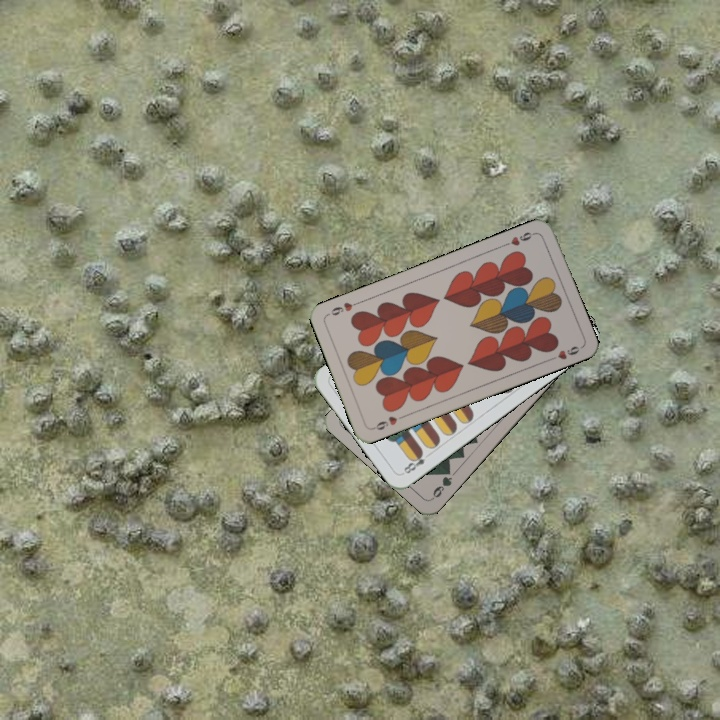E8: (398, 447, 428, 477)
G9: (428, 464, 455, 502)
H9: (368, 411, 407, 433), (499, 228, 539, 249)
